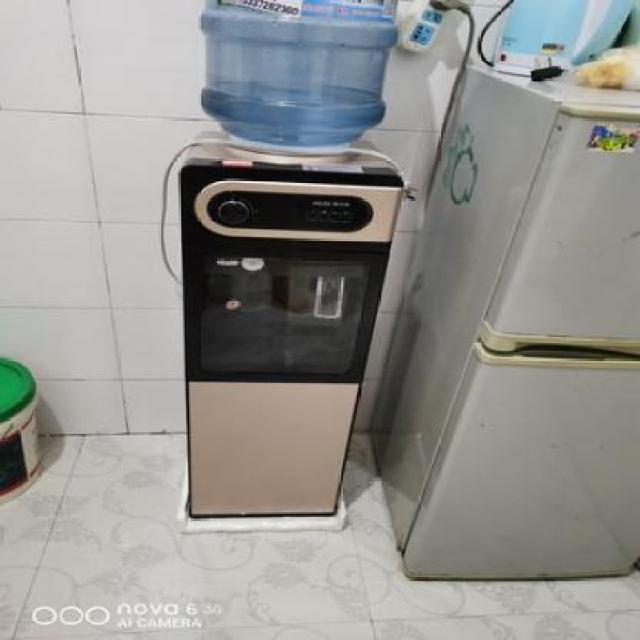cooler: (174, 0, 403, 527)
